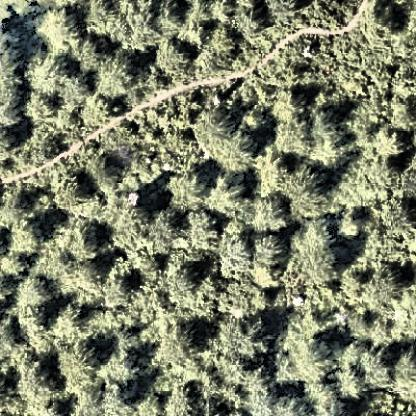tree-top: (187, 109, 259, 172), (292, 216, 341, 281), (87, 46, 140, 101), (8, 272, 58, 318), (61, 214, 107, 263), (22, 351, 71, 397), (248, 228, 292, 271), (48, 167, 94, 208), (283, 157, 322, 202), (10, 214, 49, 258), (373, 257, 416, 292), (72, 335, 110, 373), (237, 318, 274, 356), (299, 342, 332, 383), (313, 108, 352, 142), (246, 365, 280, 399), (313, 383, 348, 416), (362, 355, 398, 387), (236, 4, 273, 35), (91, 155, 120, 194), (153, 211, 185, 246), (59, 75, 87, 113), (220, 230, 253, 261), (110, 273, 137, 308), (171, 323, 202, 353), (118, 341, 146, 372), (41, 55, 64, 91), (176, 264, 202, 295), (194, 210, 214, 243), (287, 91, 312, 113)
